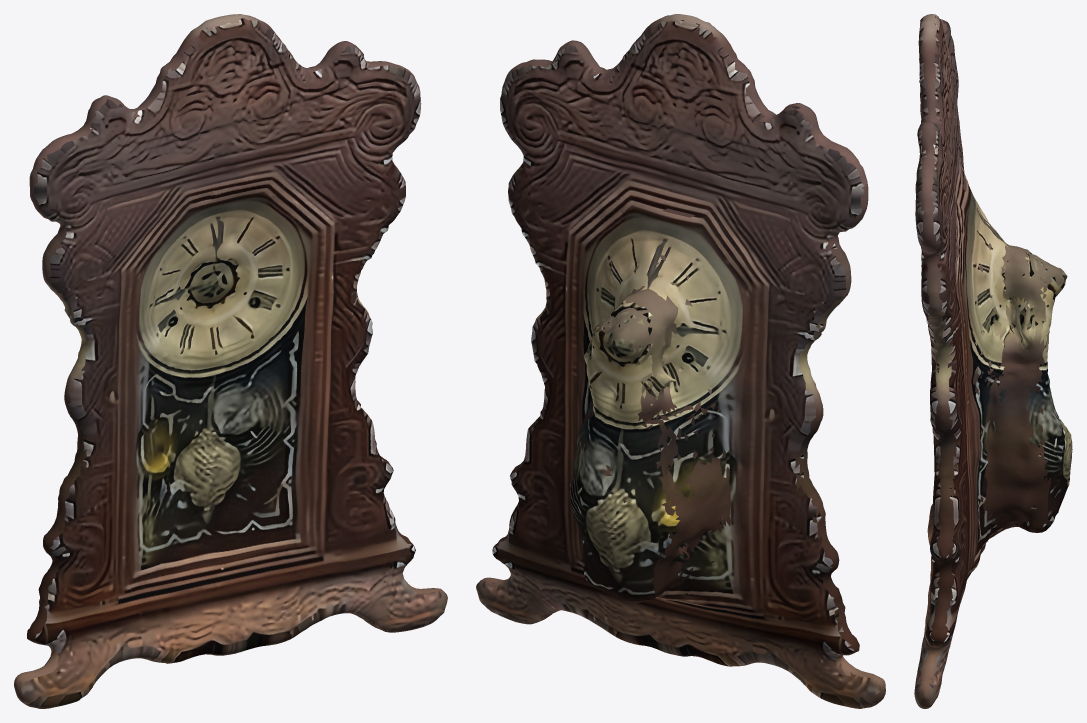
The model's file is kfl-2141.glb.
The picture shows the model from 3 angles, left to right: view 1: azimuth 30°, elevation 25°; view 2: azimuth 150°, elevation 25°; view 3: azimuth 270°, elevation 25°; orthographic projection. The views are drawn at different scales.
Visible parts, largest first — view 1: kfl-2141; view 2: kfl-2141; view 3: kfl-2141.
Boxes of the visible parts, box(x1,y1,x2,y2) form: kfl-2141: box(14, 14, 447, 708); kfl-2141: box(476, 14, 885, 708); kfl-2141: box(914, 14, 1072, 708).
Size of the model in its own units: 0.6697 by 0.9916 by 0.2365.
Materials: 4 (4 with a texture image).
